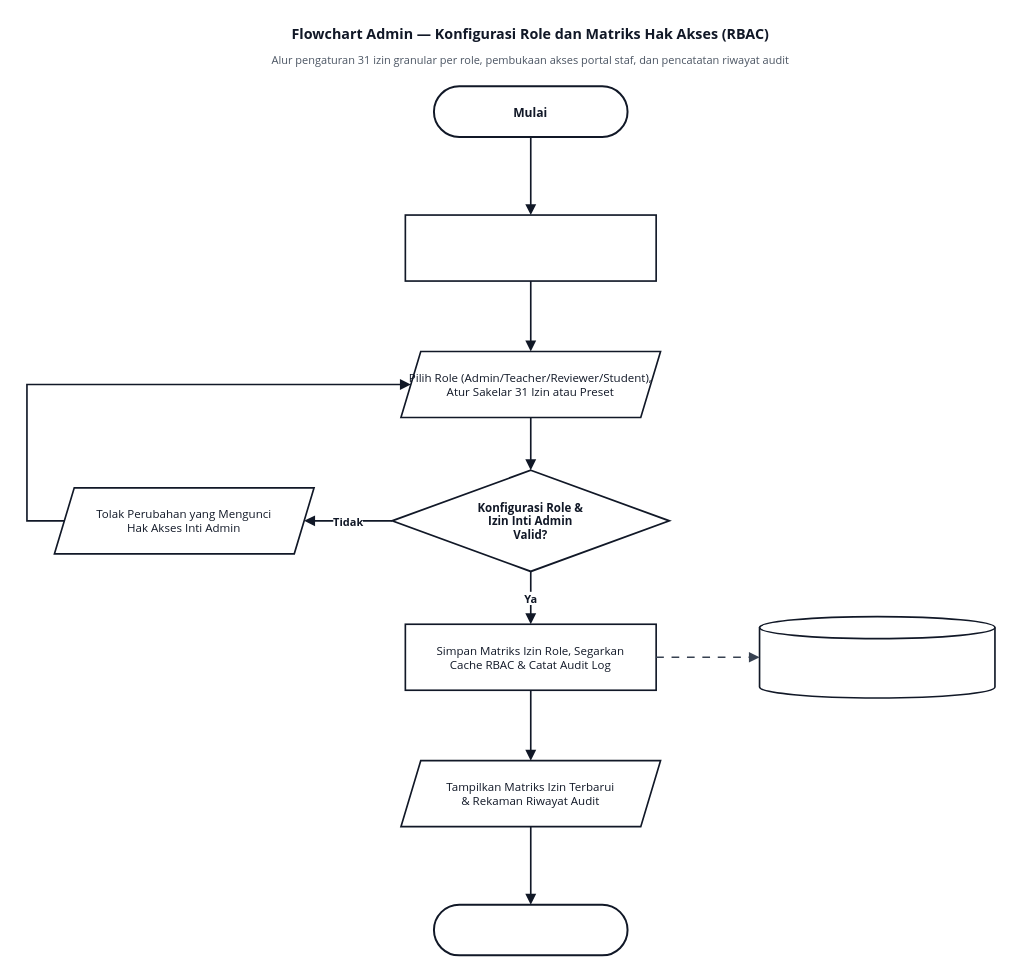
Image size: 1015x975. Some labels were removed from this diagram. The shapes that lost their labels are listed below. From the top down, each one's centre as x and y in pixels, then its label:
the point at 530,247: Buka Menu Role & Hak Akses pada Sidebar Admin
the point at 876,656: SQL Server: lms_role_definitions, lms_role_permissions & _audit_logs
the point at 530,929: Selesai
